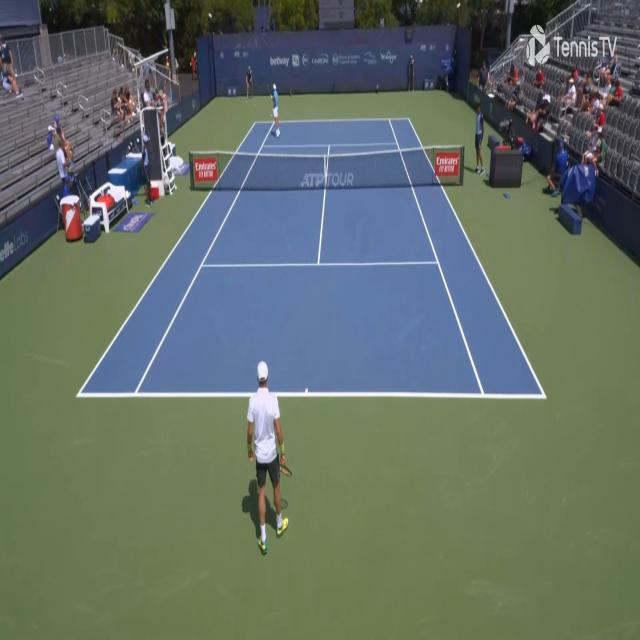tennis-player: (242, 358, 294, 556)
